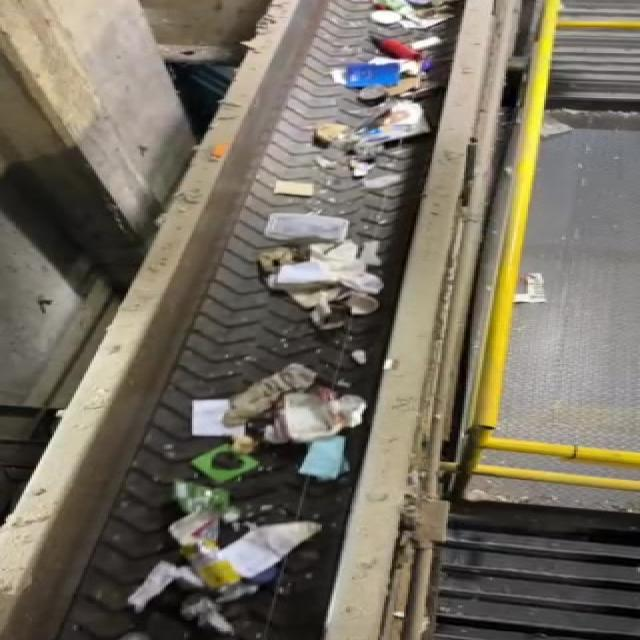pet: (219, 358, 319, 438)
